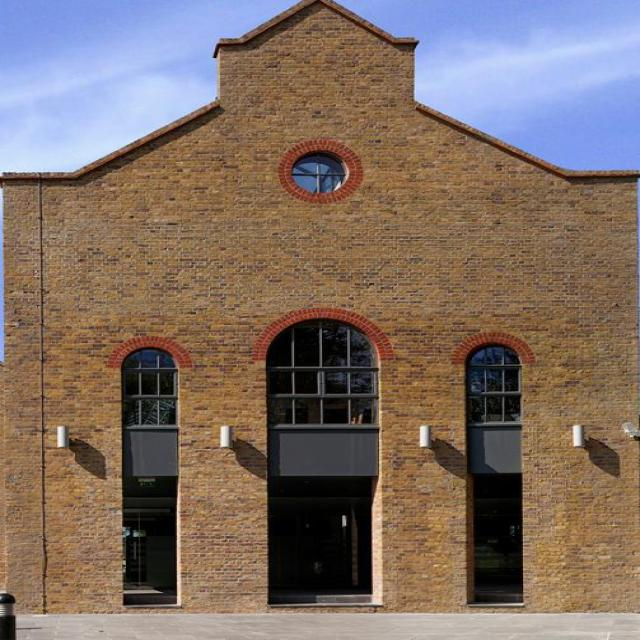door: (271, 503, 361, 593)
window: (275, 318, 378, 423), (122, 344, 181, 424), (464, 342, 522, 422), (126, 511, 176, 586), (475, 504, 516, 580), (289, 154, 347, 191)
